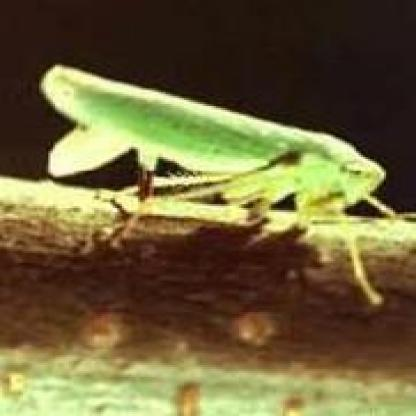Green-Leafhopper: (45, 61, 407, 307)
